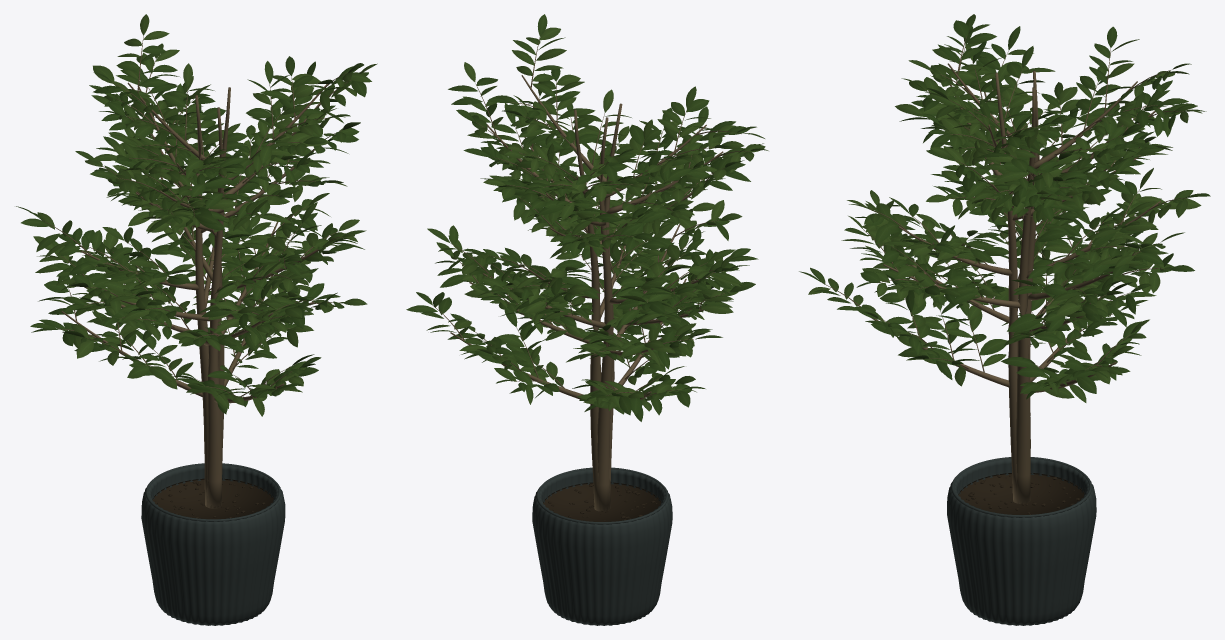
File: indoor-tree.glb
3 views of the same model, side by side, from view 1: azimuth 30°, elevation 25°; view 2: azimuth 150°, elevation 25°; view 3: azimuth 270°, elevation 25° (orthographic). The views are drawn at different scales.
Parts seen in each view (by area): view 1: Irregular evergreen leaf canopy, Fluted dark ceramic planter, Branching woody stems Olive bark 2, Branching woody stems Olive bark 1, Branching woody stems Olive bark 0, Planter soil Dark mineral planting soil, Planter rim glaze roll; view 2: Irregular evergreen leaf canopy, Fluted dark ceramic planter, Branching woody stems Olive bark 0, Branching woody stems Olive bark 1, Planter soil Dark mineral planting soil, Branching woody stems Olive bark 2, Planter rim glaze roll; view 3: Irregular evergreen leaf canopy, Fluted dark ceramic planter, Branching woody stems Olive bark 0, Branching woody stems Olive bark 2, Planter soil Dark mineral planting soil, Branching woody stems Olive bark 1, Planter rim glaze roll.
Part boxes in pixels (bbox=[...]): Irregular evergreen leaf canopy: bbox=[16, 14, 377, 416]; Fluted dark ceramic planter: bbox=[141, 465, 285, 625]; Branching woody stems Olive bark 2: bbox=[57, 76, 340, 508]; Branching woody stems Olive bark 1: bbox=[61, 80, 327, 508]; Branching woody stems Olive bark 0: bbox=[41, 36, 350, 507]; Planter soil Dark mineral planting soil: bbox=[152, 478, 273, 519]; Planter rim glaze roll: bbox=[145, 463, 281, 521]; Irregular evergreen leaf canopy: bbox=[406, 14, 768, 421]; Fluted dark ceramic planter: bbox=[532, 469, 672, 625]; Branching woody stems Olive bark 0: bbox=[433, 37, 749, 511]; Branching woody stems Olive bark 1: bbox=[472, 81, 723, 511]; Planter soil Dark mineral planting soil: bbox=[543, 482, 661, 521]; Branching woody stems Olive bark 2: bbox=[476, 75, 728, 510]; Planter rim glaze roll: bbox=[536, 467, 668, 524]; Irregular evergreen leaf canopy: bbox=[799, 14, 1210, 402]; Fluted dark ceramic planter: bbox=[947, 458, 1096, 625]; Branching woody stems Olive bark 0: bbox=[822, 35, 1187, 503]; Branching woody stems Olive bark 2: bbox=[871, 48, 1159, 503]; Planter soil Dark mineral planting soil: bbox=[958, 473, 1084, 514]; Branching woody stems Olive bark 1: bbox=[891, 61, 1157, 503]; Planter rim glaze roll: bbox=[951, 457, 1092, 517].
Bounding box in the file's own units: 1.92 × 3 × 1.98.
9 materials, 4 textured.
